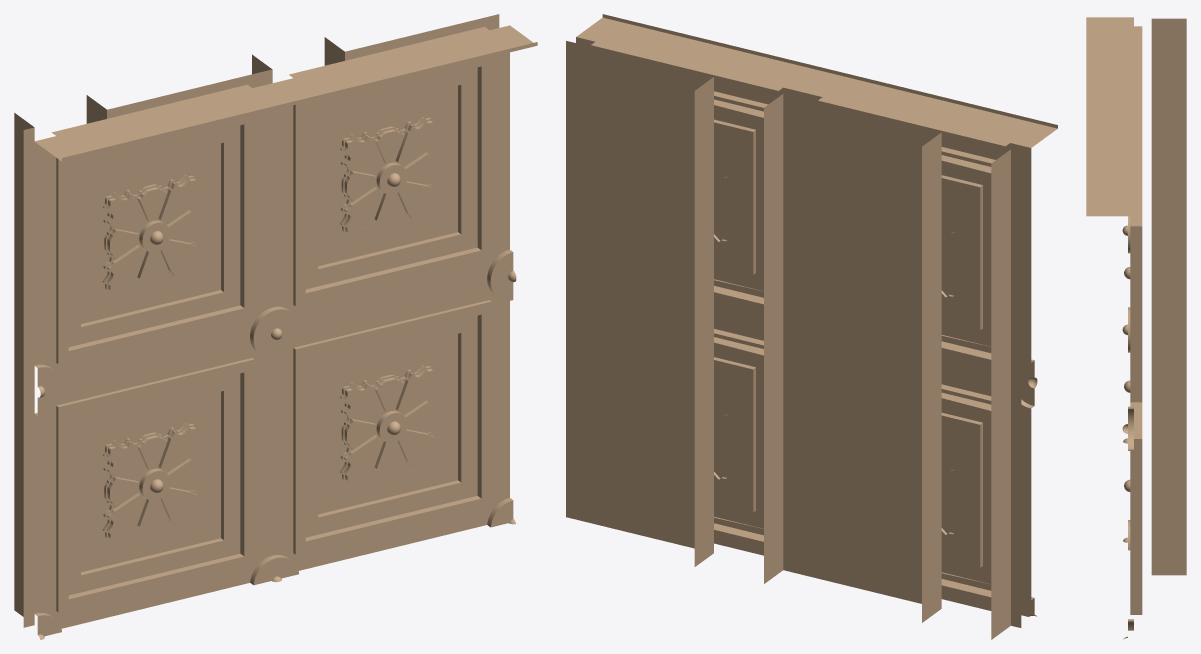
The model's file is ceiling_coffers.glb.
3 renders of one model, left to right at view 1: azimuth 30°, elevation 25°; view 2: azimuth 150°, elevation 25°; view 3: azimuth 270°, elevation 25°, orthographic. The views are drawn at different scales.
Visible parts, largest first — view 1: ceiling_coffers; view 2: ceiling_coffers; view 3: ceiling_coffers.
Part boxes in pixels (x1,y1,x2,y2): ceiling_coffers: [14, 14, 537, 639]; ceiling_coffers: [566, 14, 1057, 639]; ceiling_coffers: [1086, 17, 1186, 639].
Bounding box in the file's own units: 1.97 × 1.97 × 0.4199.
